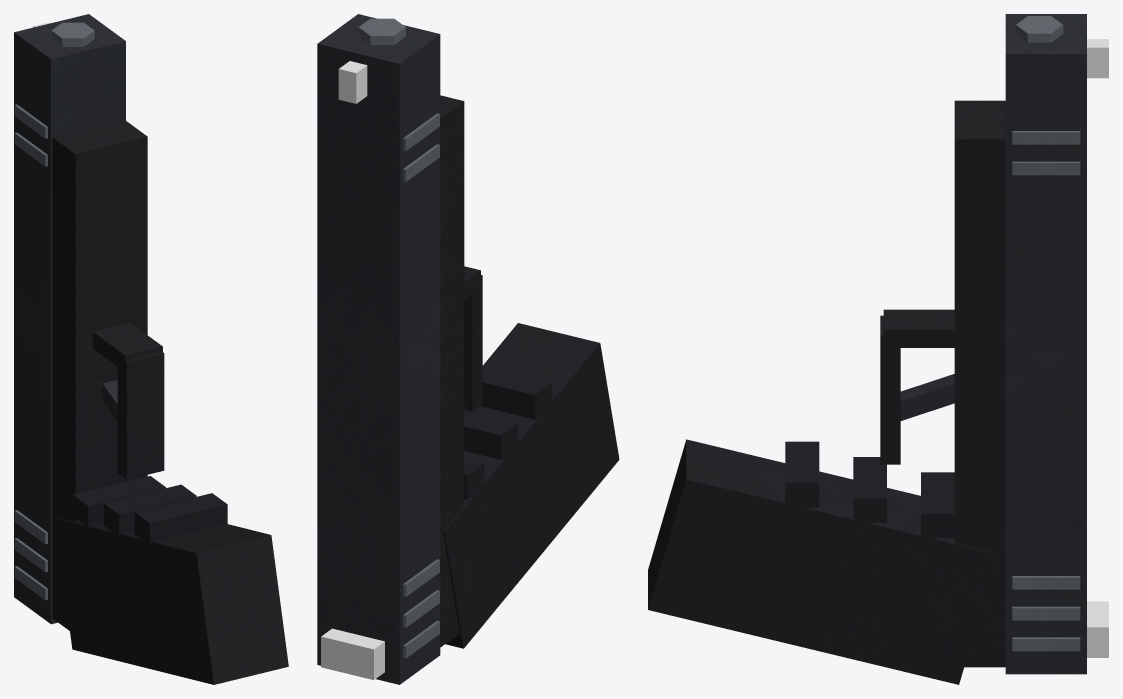
File: weapon_pistol.glb
The picture shows the model from 3 angles, left to right: view 1: azimuth 30°, elevation 25°; view 2: azimuth 150°, elevation 25°; view 3: azimuth 270°, elevation 25°; orthographic projection. The views are drawn at different scales.
Visible parts, largest first — view 1: Weapon_Pistol; view 2: Weapon_Pistol; view 3: Weapon_Pistol.
Part boxes in pixels (bbox=[...]): Weapon_Pistol: bbox=[14, 14, 288, 684]; Weapon_Pistol: bbox=[317, 14, 619, 684]; Weapon_Pistol: bbox=[648, 14, 1108, 684].
Bounding box in the file's own units: 0.03 × 0.2085 × 0.1361.
Materials: 4 (3 with a texture image).
